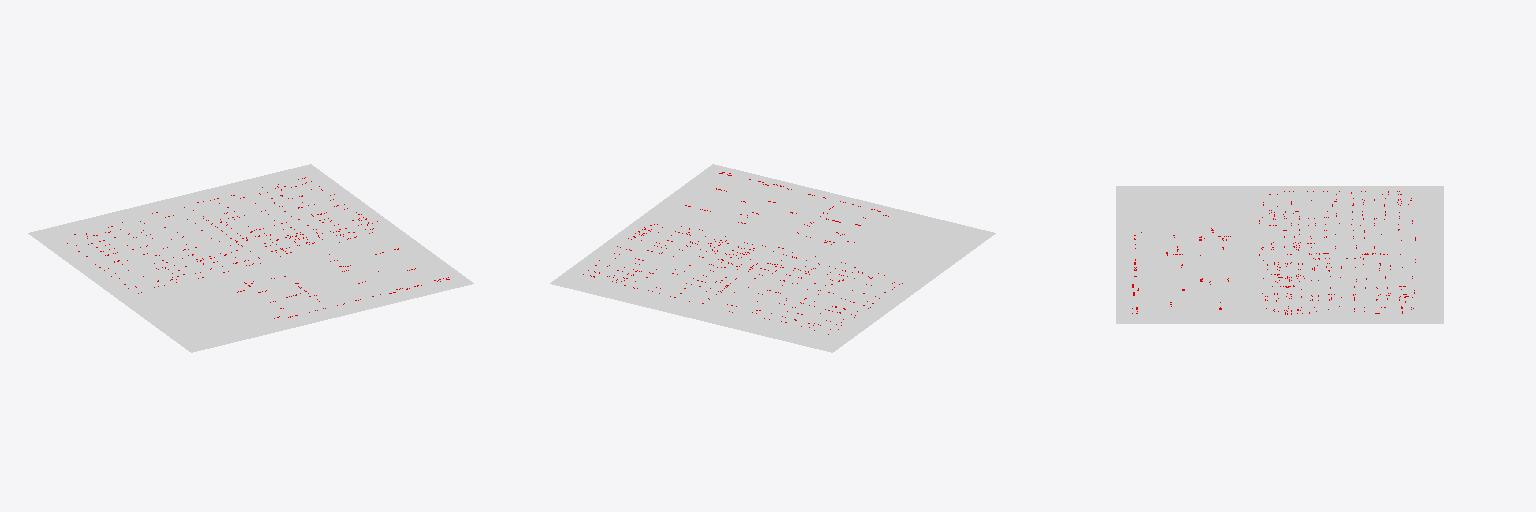
The picture shows the model from 3 angles: view 1: azimuth 30°, elevation 25°; view 2: azimuth 150°, elevation 25°; view 3: azimuth 270°, elevation 25°; orthographic projection.
Visible parts, largest first — view 1: h:pPlane5; view 2: h:pPlane5; view 3: h:pPlane5.
Part boxes in pixels (x1,y1,x2,y2): h:pPlane5: (28, 164, 473, 352); h:pPlane5: (550, 164, 995, 352); h:pPlane5: (1116, 186, 1443, 323).
Bounding box in the file's own units: 155 × 1.3 × 150.
4 materials, 3 textured.